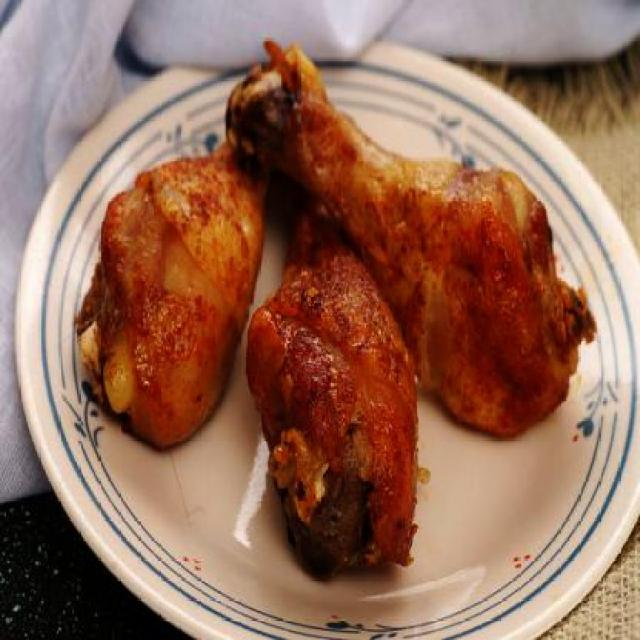Frango: (226, 40, 637, 382), (220, 277, 482, 558), (110, 97, 242, 421)
